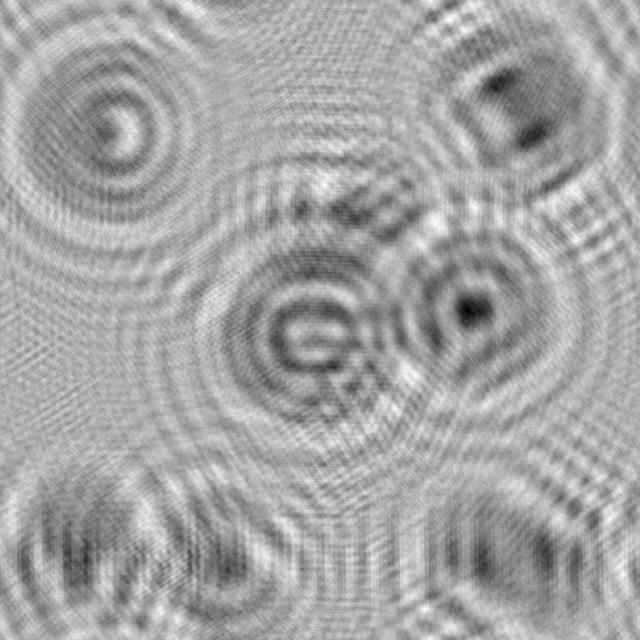C: (0, 0, 231, 257)
E: (377, 0, 640, 243)
J: (100, 430, 340, 640)
L: (194, 96, 460, 315)
P: (343, 180, 596, 439)
Q: (151, 194, 444, 475)
V: (0, 425, 184, 640)
Z: (370, 435, 640, 640)
